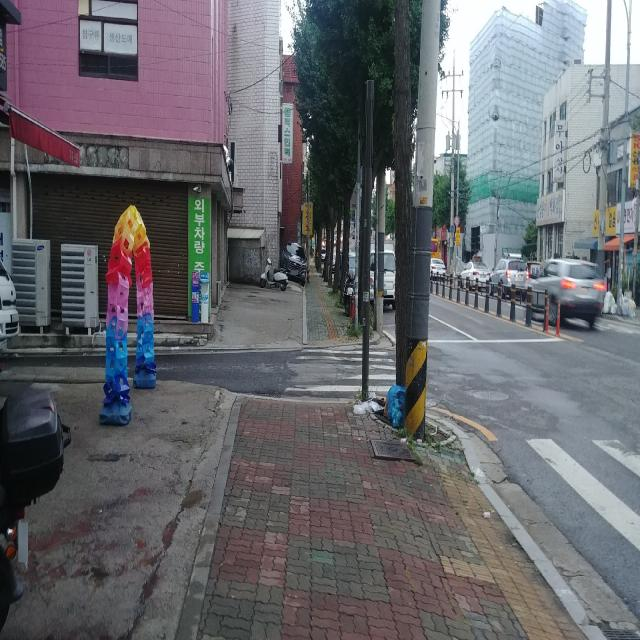횡단보도: (283, 348, 397, 392)
